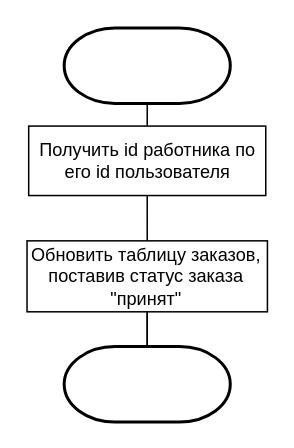
The diagram is 294 pixels wide and 448 high, and some of its shapes have lost their labels. The centre of each missing label's shape, as x and y in pixels:
"Конец" goes at (x=146, y=383).
"Начало" goes at (x=146, y=65).
